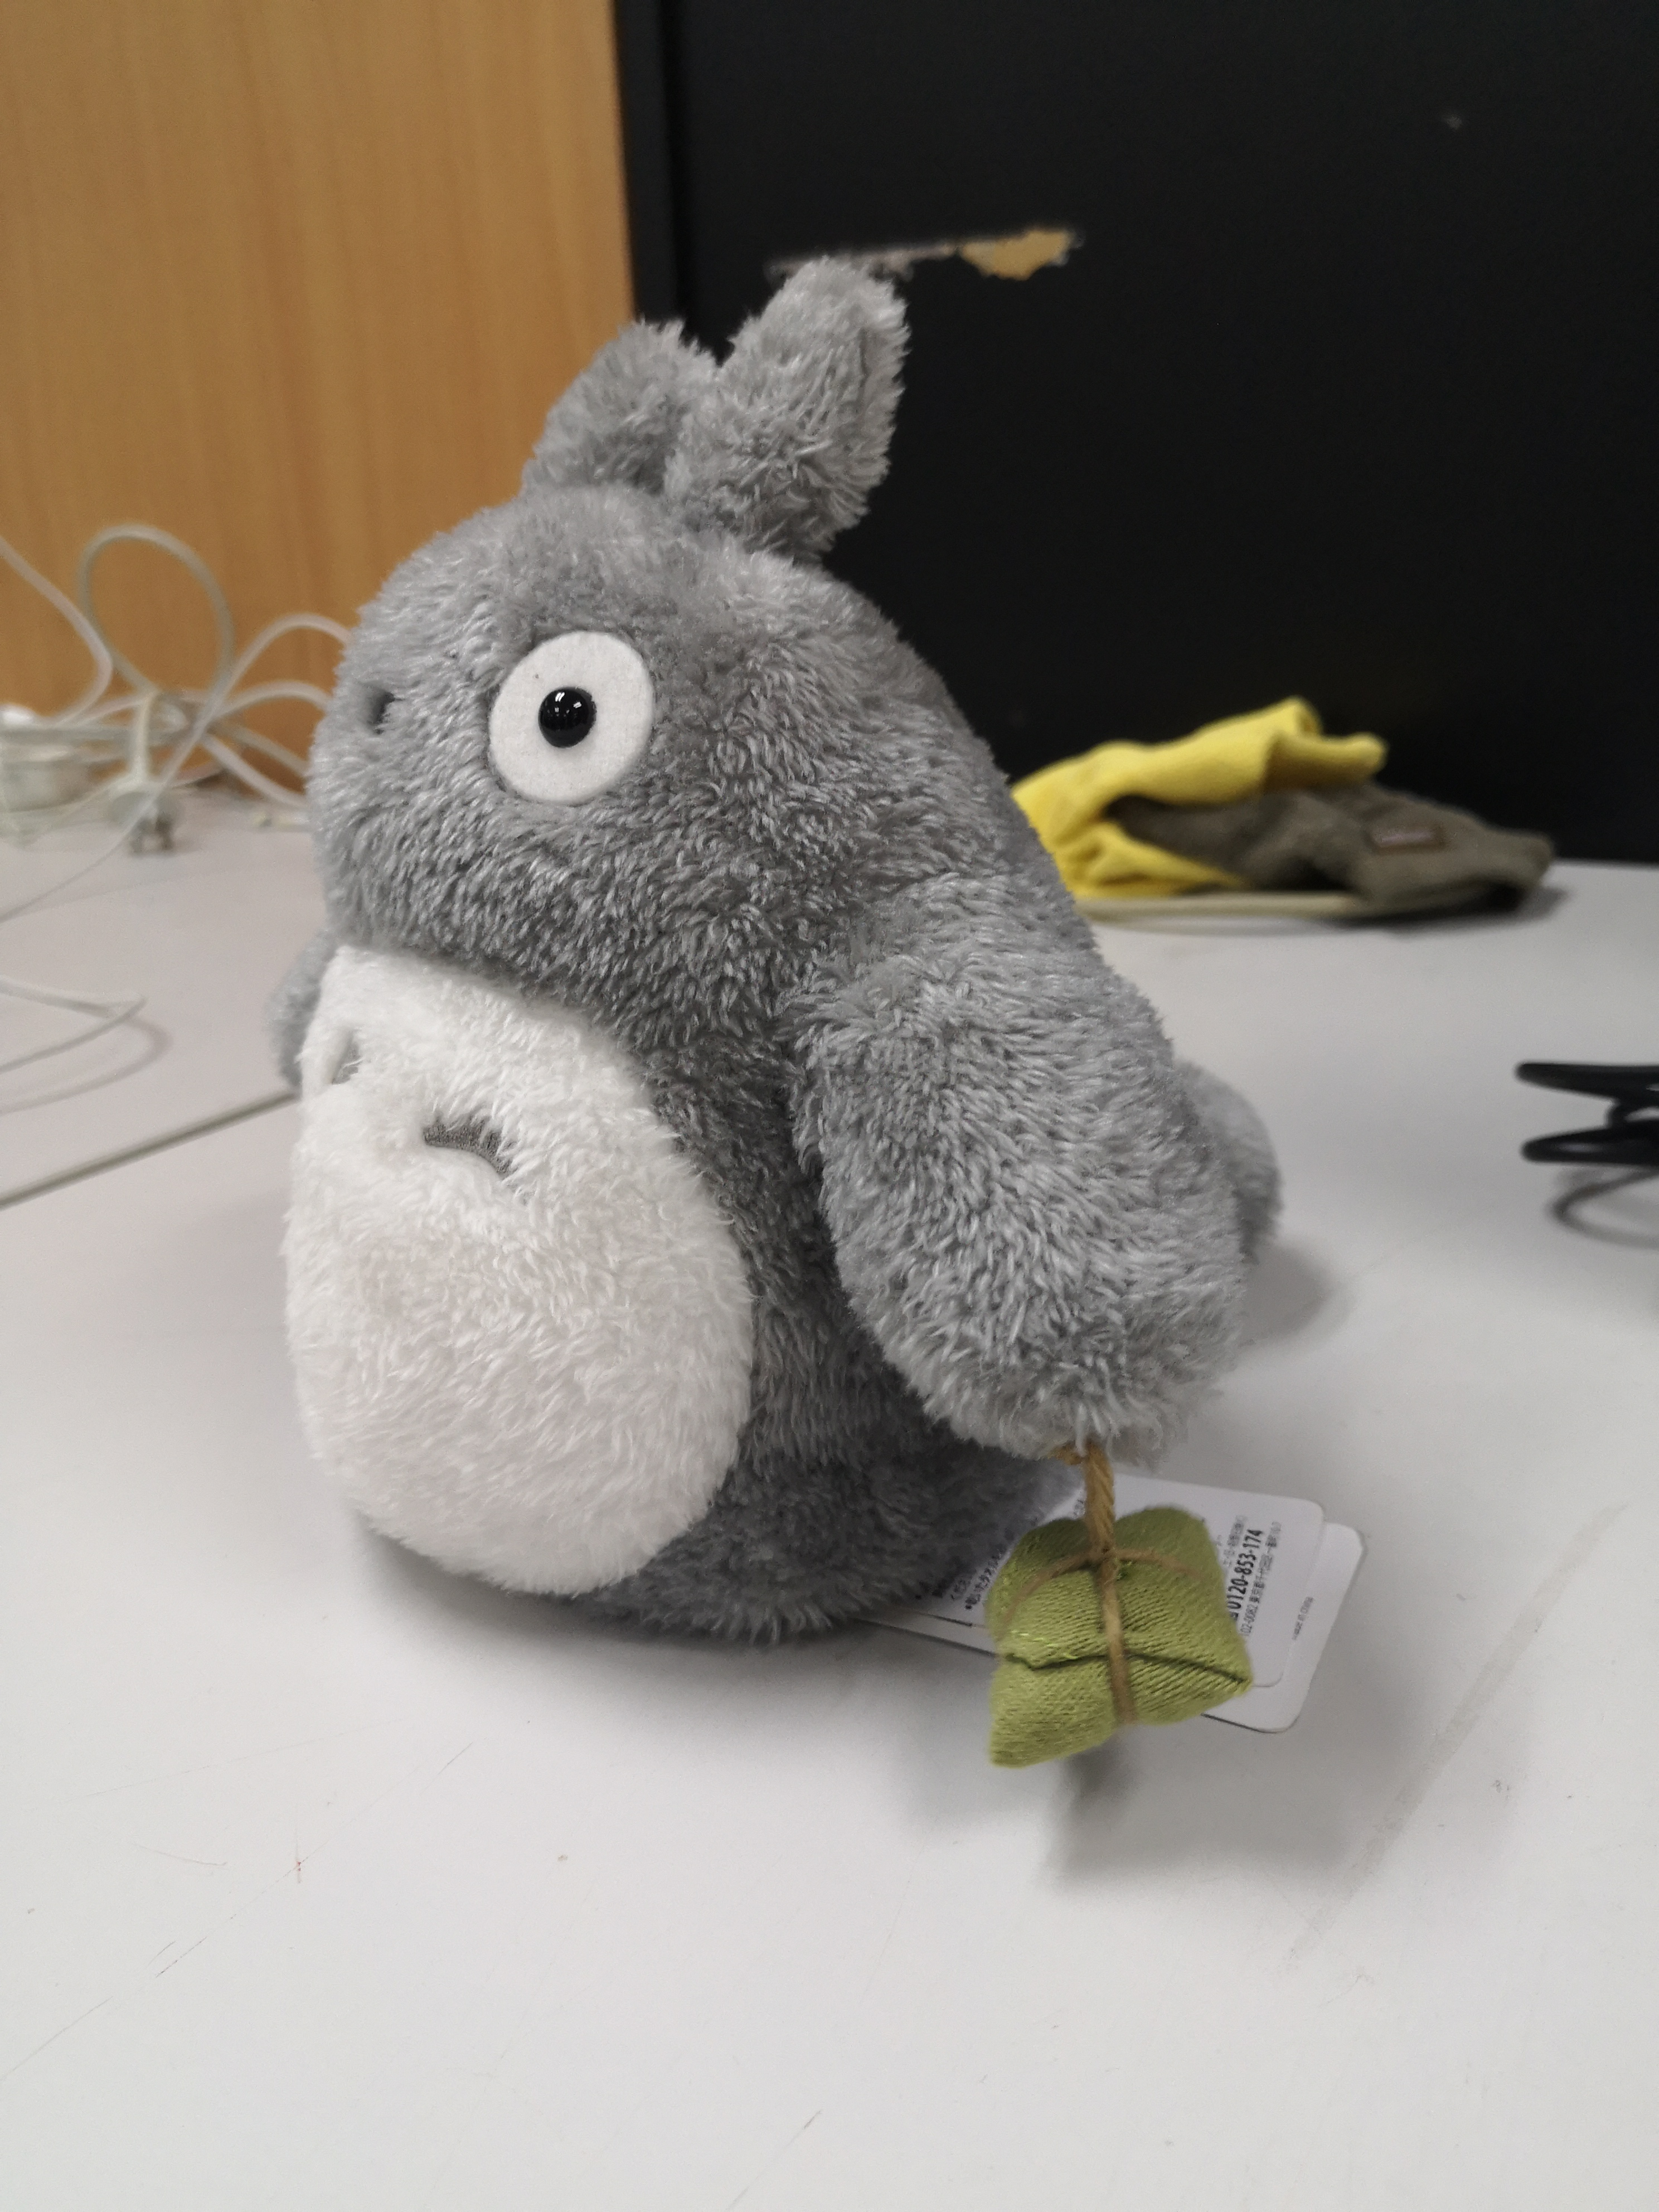totoro: (239, 223, 1305, 1803)
